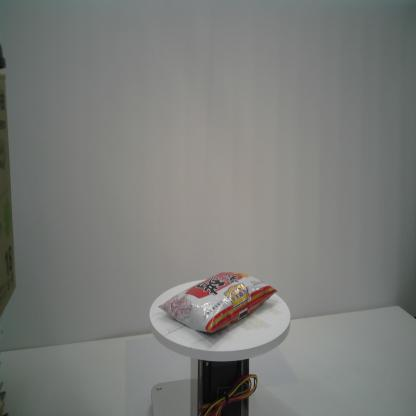Seasoner: (157, 268, 280, 337)
